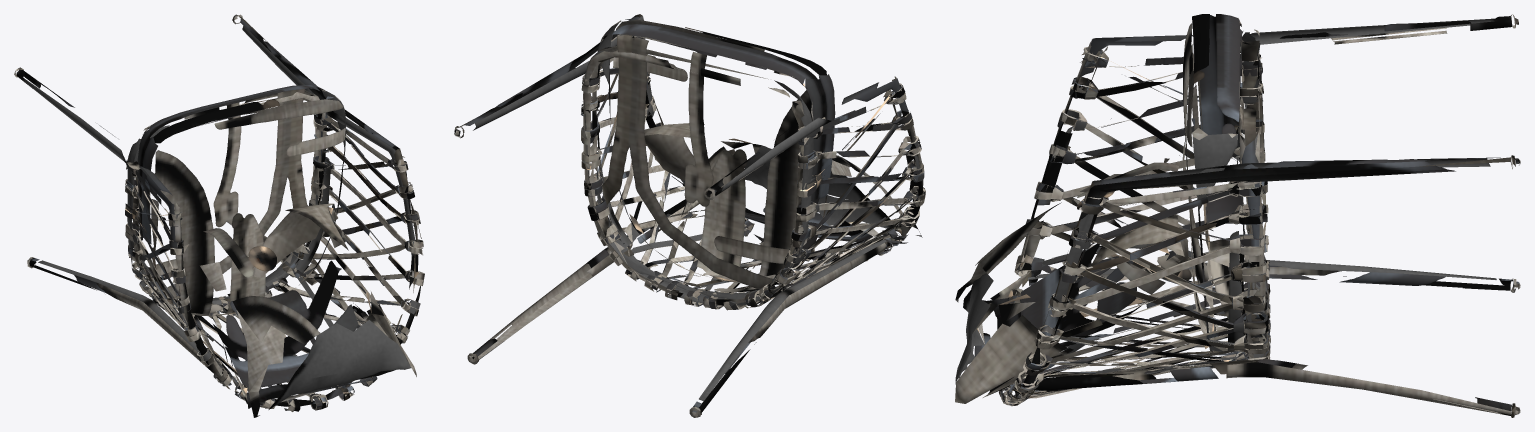
3 renders of one model, left to right at view 1: azimuth 30°, elevation 25°; view 2: azimuth 150°, elevation 25°; view 3: azimuth 270°, elevation 25°, orthographic. The views are drawn at different scales.
Size of the model in its own units: 0.7097 by 0.686 by 1.07.
